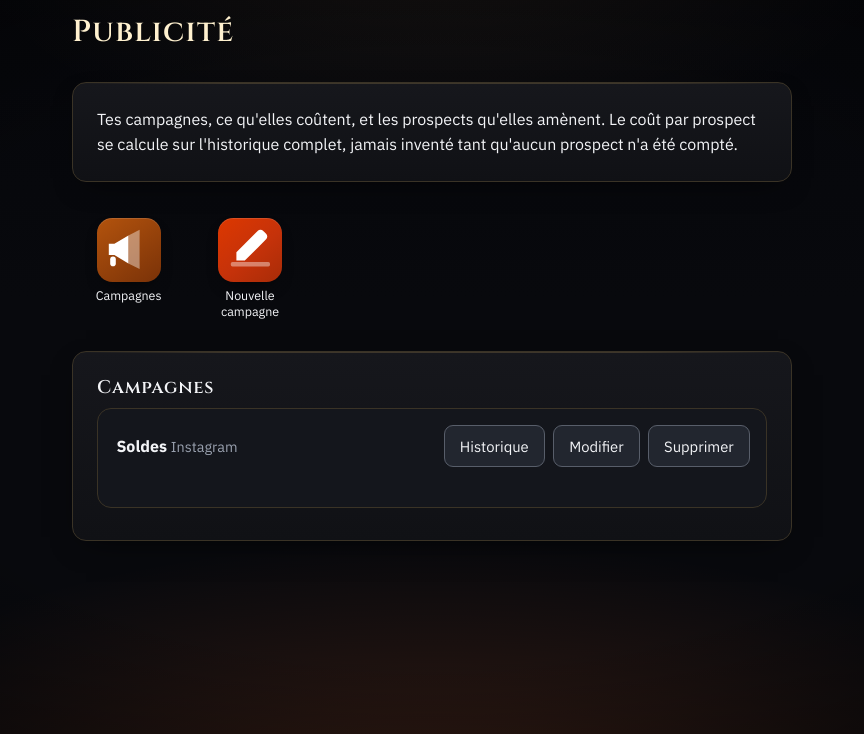
Scenario: PublicitePage › affiche l'historique d'une campagne, avec le coût par prospect
The image size is (864, 734).
Check: the text "Soldes" is shown, box x1=116 y1=436 x2=167 y2=456
Click the button "Historique" at (494, 446), box x1=444 y1=425 x2=545 y2=467
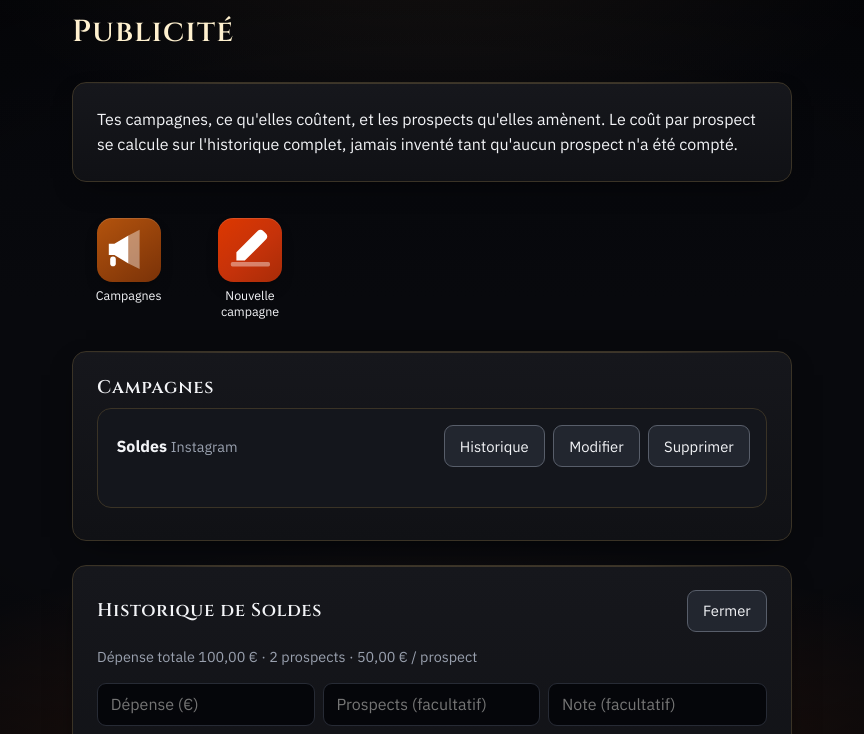
Check: the text "Dépense totale 100,00 € · 2 prospects · 50,00 € / prospect" is shown, box x1=97 y1=647 x2=477 y2=666
